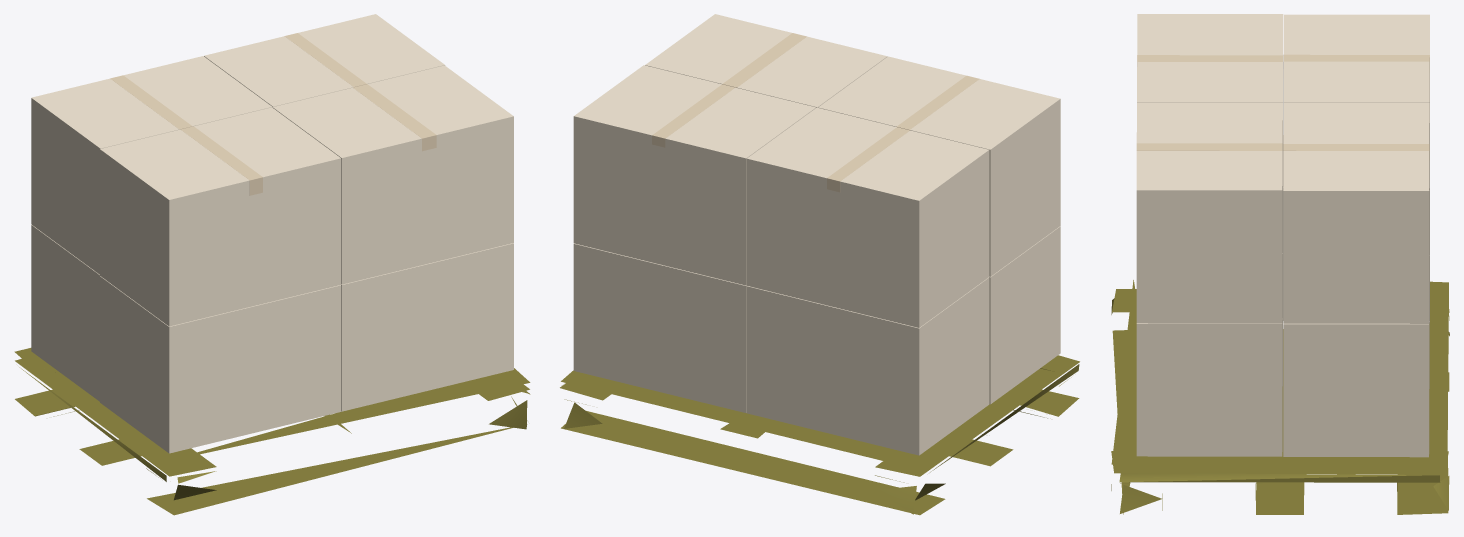
File: shelf_LOD2.glb
3 renders of one model, left to right at view 1: azimuth 30°, elevation 25°; view 2: azimuth 150°, elevation 25°; view 3: azimuth 270°, elevation 25°, orthographic. The views are drawn at different scales.
Parts seen in each view (by area): view 1: Component465-3d66-CoronaLegacyMtl-18517304-087.003, Component465-3d66-CoronaLegacyMtl-18517304-087.002, Component465-3d66-CoronaLegacyMtl-18517304-087.006, Component465-3d66-CoronaLegacyMtl-18517304-087.005, Component465-3d66-CoronaLegacyMtl-18517304-087.001, 木制货架.1-3d66-CoronaLegacyMtl-18517304-092, Component465-3d66-CoronaLegacyMtl-18517304-087.004, Component465-3d66-CoronaLegacyMtl-18517304-087, Component467-3d66-CoronaLegacyMtl-18517304-085, Component469-3d66-CoronaLegacyMtl-18517304-085, Component470-3d66-CoronaLegacyMtl-18517304-085, Component468-3d66-CoronaLegacyMtl-18517304-085; view 2: Component465-3d66-CoronaLegacyMtl-18517304-087.001, Component465-3d66-CoronaLegacyMtl-18517304-087.004, Component465-3d66-CoronaLegacyMtl-18517304-087, Component465-3d66-CoronaLegacyMtl-18517304-087.007, Component465-3d66-CoronaLegacyMtl-18517304-087.003, 木制货架.1-3d66-CoronaLegacyMtl-18517304-092, Component465-3d66-CoronaLegacyMtl-18517304-087.002, Component465-3d66-CoronaLegacyMtl-18517304-087.006, Component470-3d66-CoronaLegacyMtl-18517304-085, Component468-3d66-CoronaLegacyMtl-18517304-085, Component467-3d66-CoronaLegacyMtl-18517304-085, Component469-3d66-CoronaLegacyMtl-18517304-085; view 3: Component465-3d66-CoronaLegacyMtl-18517304-087.002, Component465-3d66-CoronaLegacyMtl-18517304-087.004, 木制货架.1-3d66-CoronaLegacyMtl-18517304-092, Component465-3d66-CoronaLegacyMtl-18517304-087.005, Component465-3d66-CoronaLegacyMtl-18517304-087.007, Component465-3d66-CoronaLegacyMtl-18517304-087.003, Component465-3d66-CoronaLegacyMtl-18517304-087.001, Component467-3d66-CoronaLegacyMtl-18517304-085, Component468-3d66-CoronaLegacyMtl-18517304-085, Component469-3d66-CoronaLegacyMtl-18517304-085, Component470-3d66-CoronaLegacyMtl-18517304-085.
Boxes of the visible parts, x1,y1,x2,y2 form: Component465-3d66-CoronaLegacyMtl-18517304-087.003: [100, 107, 341, 326]; Component465-3d66-CoronaLegacyMtl-18517304-087.002: [272, 65, 513, 284]; Component465-3d66-CoronaLegacyMtl-18517304-087.006: [100, 276, 341, 453]; Component465-3d66-CoronaLegacyMtl-18517304-087.005: [341, 243, 513, 411]; Component465-3d66-CoronaLegacyMtl-18517304-087.001: [31, 56, 272, 274]; 木制货架.1-3d66-CoronaLegacyMtl-18517304-092: [14, 348, 530, 515]; Component465-3d66-CoronaLegacyMtl-18517304-087.004: [204, 14, 445, 106]; Component465-3d66-CoronaLegacyMtl-18517304-087: [31, 224, 99, 401]; Component467-3d66-CoronaLegacyMtl-18517304-085: [353, 84, 436, 150]; Component469-3d66-CoronaLegacyMtl-18517304-085: [181, 126, 262, 195]; Component470-3d66-CoronaLegacyMtl-18517304-085: [110, 75, 191, 129]; Component468-3d66-CoronaLegacyMtl-18517304-085: [285, 33, 366, 86]; Component465-3d66-CoronaLegacyMtl-18517304-087.001: [746, 107, 989, 327]; Component465-3d66-CoronaLegacyMtl-18517304-087.004: [573, 65, 816, 285]; Component465-3d66-CoronaLegacyMtl-18517304-087: [746, 277, 989, 455]; Component465-3d66-CoronaLegacyMtl-18517304-087.007: [573, 243, 746, 412]; Component465-3d66-CoronaLegacyMtl-18517304-087.003: [818, 56, 1060, 276]; 木制货架.1-3d66-CoronaLegacyMtl-18517304-092: [560, 355, 1079, 515]; Component465-3d66-CoronaLegacyMtl-18517304-087.002: [645, 14, 887, 107]; Component465-3d66-CoronaLegacyMtl-18517304-087.006: [989, 226, 1060, 404]; Component470-3d66-CoronaLegacyMtl-18517304-085: [827, 127, 909, 191]; Component468-3d66-CoronaLegacyMtl-18517304-085: [652, 84, 734, 147]; Component467-3d66-CoronaLegacyMtl-18517304-085: [723, 33, 806, 87]; Component469-3d66-CoronaLegacyMtl-18517304-085: [897, 76, 978, 129]; Component465-3d66-CoronaLegacyMtl-18517304-087.002: [1136, 102, 1282, 323]; Component465-3d66-CoronaLegacyMtl-18517304-087.004: [1283, 103, 1429, 323]; 木制货架.1-3d66-CoronaLegacyMtl-18517304-092: [1111, 280, 1449, 514]; Component465-3d66-CoronaLegacyMtl-18517304-087.005: [1136, 253, 1282, 456]; Component465-3d66-CoronaLegacyMtl-18517304-087.007: [1283, 256, 1429, 457]; Component465-3d66-CoronaLegacyMtl-18517304-087.003: [1137, 14, 1283, 187]; Component465-3d66-CoronaLegacyMtl-18517304-087.001: [1283, 14, 1429, 189]; Component467-3d66-CoronaLegacyMtl-18517304-085: [1137, 143, 1282, 150]; Component468-3d66-CoronaLegacyMtl-18517304-085: [1283, 144, 1429, 150]; Component469-3d66-CoronaLegacyMtl-18517304-085: [1137, 55, 1282, 61]; Component470-3d66-CoronaLegacyMtl-18517304-085: [1284, 55, 1429, 61].
Bounding box in the file's own units: 122 × 98.89 × 92.83.
Materials: 3 (1 with a texture image).
